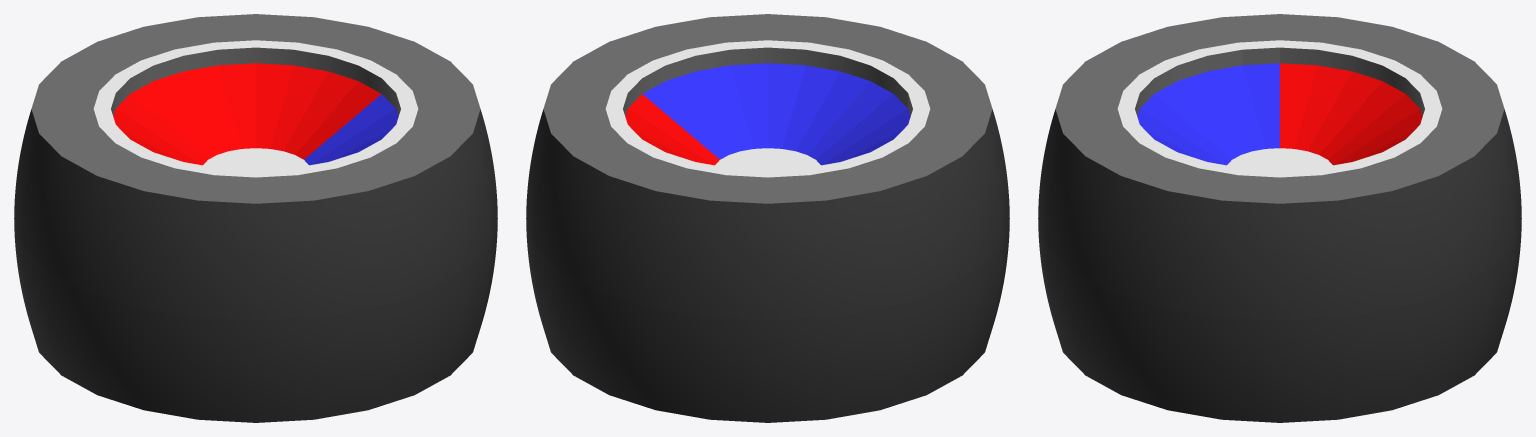
The model's file is rover_wheel_left.dae.
The picture shows the model from 3 angles, left to right: view 1: azimuth 30°, elevation 25°; view 2: azimuth 150°, elevation 25°; view 3: azimuth 270°, elevation 25°; orthographic projection.
Parts seen in each view (by area): view 1: Component_4 (×7); view 2: Component_4 (×7); view 3: Component_4 (×7).
Boxes of the visible parts, x1,y1,x2,y2 form: Component_4 (×7): (14, 14, 497, 422); Component_4 (×7): (526, 14, 1009, 422); Component_4 (×7): (1038, 14, 1521, 422).
Size of the model in its own units: 5.51 by 5.51 by 2.76.
